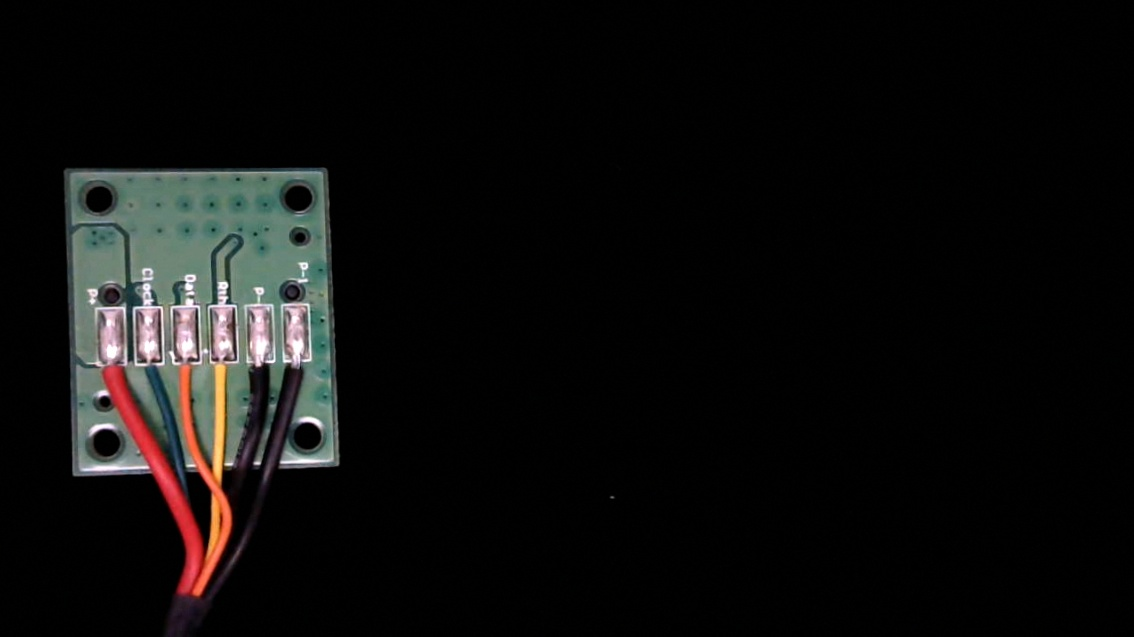Black: (245, 345, 273, 406)
Black1: (284, 345, 315, 406)
Green: (133, 347, 166, 407)
Orange: (171, 347, 202, 412)
Red: (94, 347, 127, 410)
Yellow: (206, 344, 238, 411)
